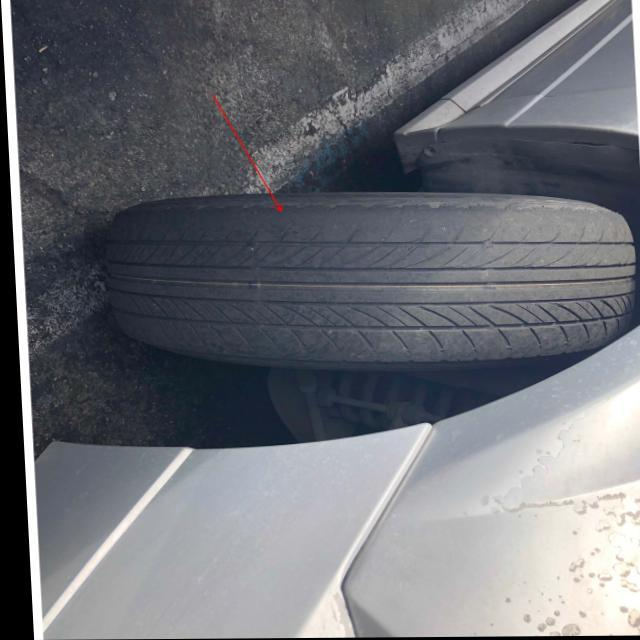Flat spots: (105, 186, 640, 345)
